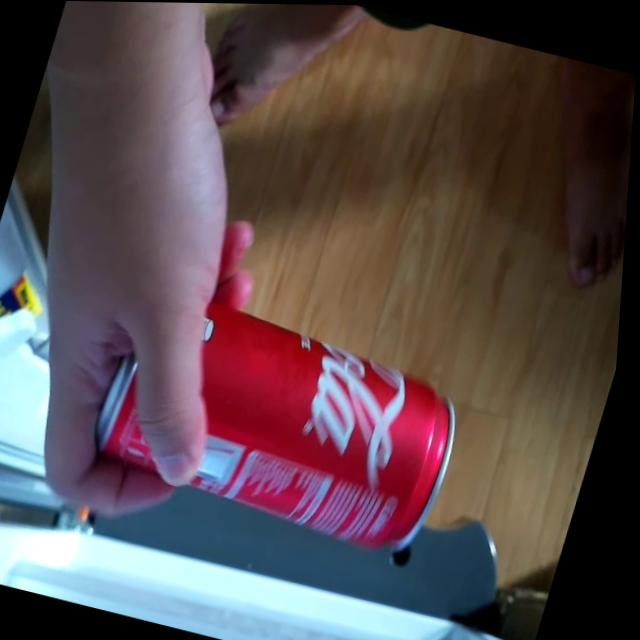coke: (97, 281, 489, 566)
